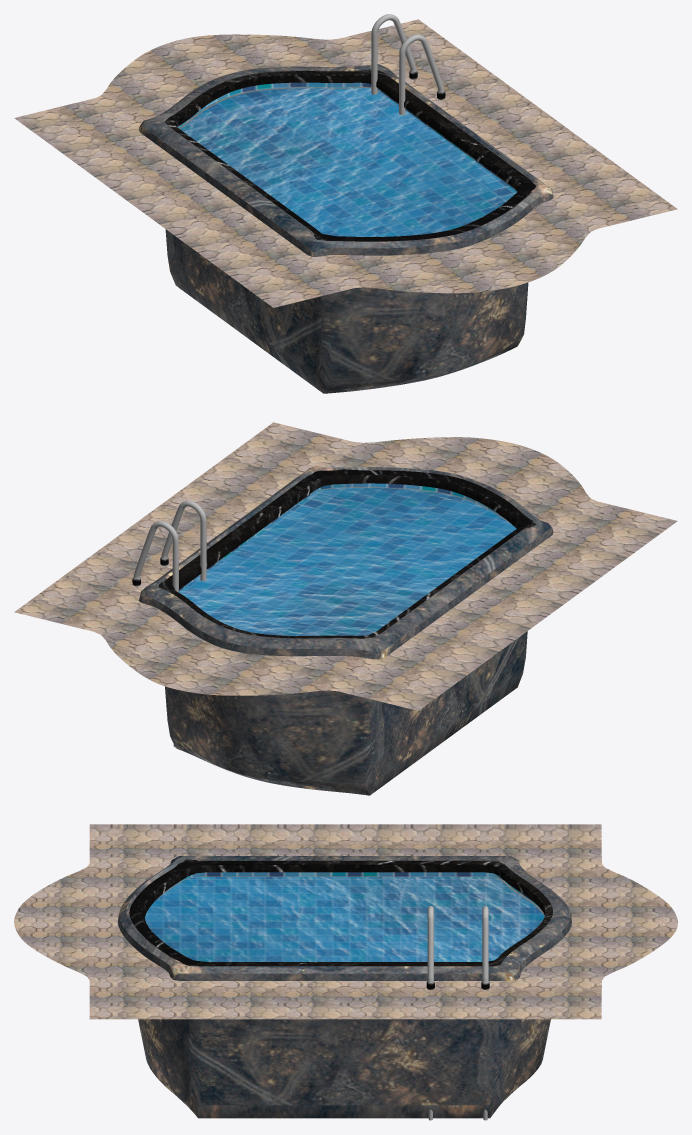
Rendered from swimming_pool_with_texture.glb.
3 views of the same model, one above another, from view 1: azimuth 30°, elevation 25°; view 2: azimuth 150°, elevation 25°; view 3: azimuth 270°, elevation 25° (orthographic).
Parts seen in each view (by area): view 1: polySurface1; view 2: polySurface1; view 3: polySurface1.
Boxes of the visible parts, x1,y1,x2,y2 form: polySurface1: (14, 14, 677, 393); polySurface1: (14, 422, 677, 795); polySurface1: (14, 824, 677, 1120).
Bounding box in the file's own units: 51.62 × 27.02 × 74.37.
Materials: 1 (1 with a texture image).
